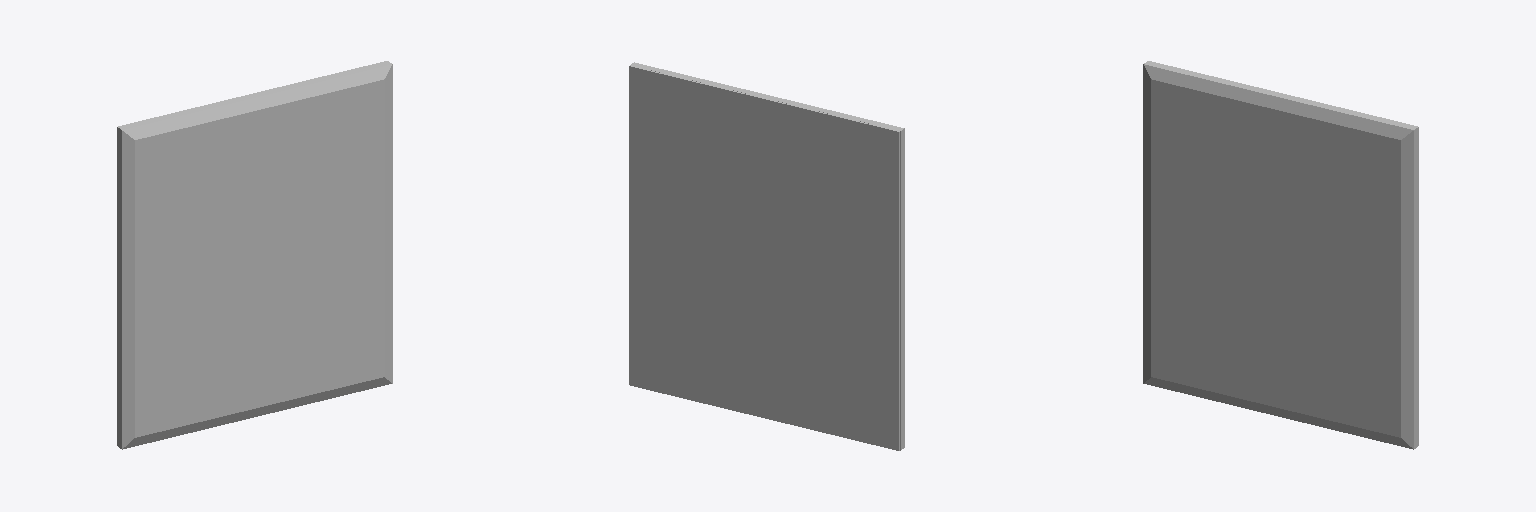
The model's file is Picture.obj.
The picture shows the model from 3 angles: view 1: azimuth 30°, elevation 25°; view 2: azimuth 150°, elevation 25°; view 3: azimuth 330°, elevation 25°; orthographic projection.
Parts seen in each view (by area): view 1: Shape03, Shape04; view 2: Shape04, Shape03; view 3: Shape03, Shape04.
Boxes of the visible parts, box(x1,y1,x2,y2) form: Shape03: box(118, 61, 392, 449); Shape04: box(117, 61, 387, 445); Shape04: box(629, 65, 899, 450); Shape03: box(631, 62, 904, 450); Shape03: box(1143, 61, 1417, 449); Shape04: box(1148, 61, 1418, 445).
Bounding box in the file's own units: 14.03 × 15.83 × 0.6672.